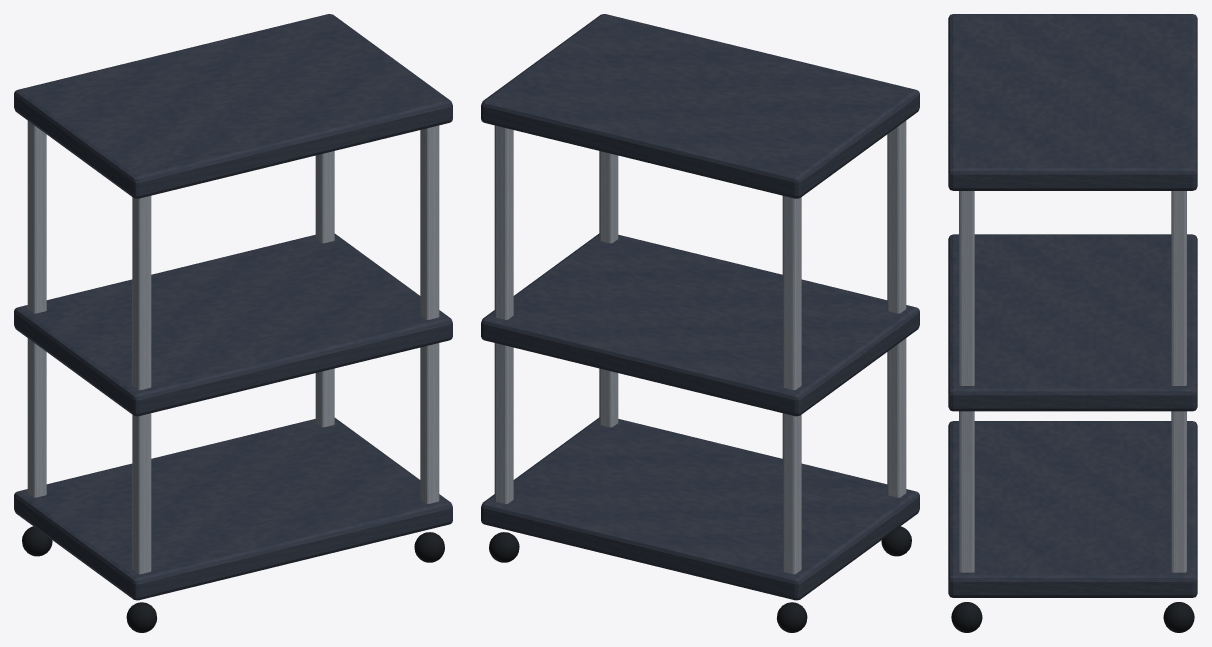
The model's file is SideCart.obj.
The picture shows the model from 3 angles, left to right: view 1: azimuth 30°, elevation 25°; view 2: azimuth 150°, elevation 25°; view 3: azimuth 270°, elevation 25°; orthographic projection.
Parts seen in each view (by area): view 1: Tray.002, Tray.001, Tray, Post.005, Post.007, Post.006, Post.008, Caster.007, Caster.005, Caster.006; view 2: Tray.002, Tray.001, Tray, Post.006, Post.008, Post.005, Post.007, Caster.008, Caster.006, Caster.005; view 3: Tray.002, Tray.001, Tray, Post.007, Post.008, Caster.007, Caster.008.
Part boxes in pixels (x1=…): Tray.002: x1=14, y1=14, x2=452, y2=198; Tray.001: x1=14, y1=233, x2=452, y2=416; Tray: x1=14, y1=417, x2=452, y2=600; Post.005: x1=132, y1=196, x2=151, y2=574; Post.007: x1=420, y1=125, x2=439, y2=503; Post.006: x1=27, y1=121, x2=46, y2=497; Post.008: x1=315, y1=151, x2=334, y2=427; Caster.007: x1=414, y1=532, x2=444, y2=562; Caster.005: x1=126, y1=602, x2=157, y2=632; Caster.006: x1=22, y1=526, x2=52, y2=556; Tray.002: x1=481, y1=14, x2=919, y2=198; Tray.001: x1=481, y1=233, x2=919, y2=416; Tray: x1=481, y1=417, x2=919, y2=600; Post.006: x1=782, y1=196, x2=801, y2=574; Post.008: x1=494, y1=125, x2=513, y2=503; Post.005: x1=887, y1=121, x2=906, y2=497; Post.007: x1=599, y1=151, x2=618, y2=427; Caster.008: x1=489, y1=532, x2=519, y2=562; Caster.006: x1=776, y1=602, x2=807, y2=632; Caster.005: x1=881, y1=526, x2=911, y2=556; Tray.002: x1=948, y1=14, x2=1197, y2=190; Tray.001: x1=948, y1=234, x2=1197, y2=411; Tray: x1=948, y1=421, x2=1197, y2=597; Post.007: x1=959, y1=191, x2=974, y2=572; Post.008: x1=1171, y1=191, x2=1186, y2=572; Caster.007: x1=951, y1=602, x2=982, y2=632; Caster.008: x1=1163, y1=602, x2=1194, y2=632.
Size of the model in its own units: 0.6 by 0.83 by 0.4.
